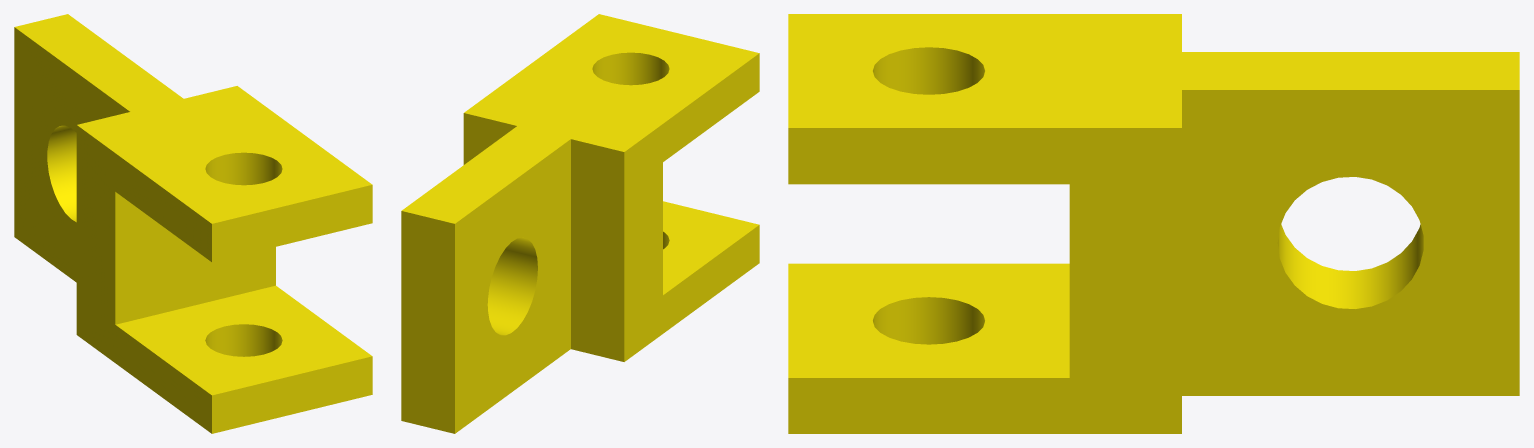
Rendered from modelo_didático_20.glb.
3 views of the same model, side by side, from view 1: azimuth 30°, elevation 25°; view 2: azimuth 150°, elevation 25°; view 3: azimuth 270°, elevation 25° (orthographic). The views are drawn at different scales.
Visible parts, largest first — view 1: Modelo didatico 20.SLDPRT; view 2: Modelo didatico 20.SLDPRT; view 3: Modelo didatico 20.SLDPRT.
Part boxes in pixels (<box>): Modelo didatico 20.SLDPRT: <box>14,14,372,433</box>; Modelo didatico 20.SLDPRT: <box>401,14,759,433</box>; Modelo didatico 20.SLDPRT: <box>788,14,1519,433</box>.
Bounding box in the file's own units: 0.024 × 0.03 × 0.065.
